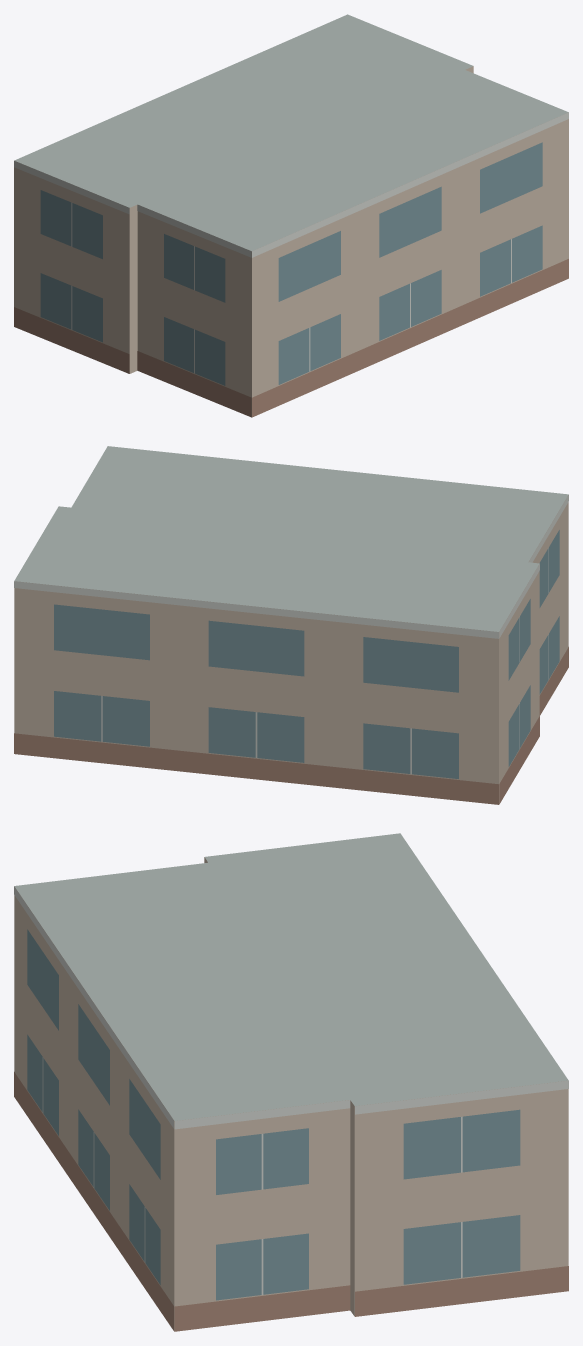
Rendered from survey-upis-32810020.glb.
3 views of the same model, one above another, from view 1: azimuth 30°, elevation 25°; view 2: azimuth 150°, elevation 25°; view 3: azimuth 270°, elevation 25° (orthographic). The views are drawn at different scales.
Parts seen in each view (by area): view 1: survey-upis-32810020.tmp; view 2: survey-upis-32810020.tmp; view 3: survey-upis-32810020.tmp.
Part boxes in pixels (left/top/right/bottom): survey-upis-32810020.tmp: left=14, top=14, right=568, bottom=417; survey-upis-32810020.tmp: left=14, top=446, right=568, bottom=804; survey-upis-32810020.tmp: left=14, top=833, right=568, bottom=1331.
Size of the model in its own units: 17.89 by 6.1 by 14.57.
